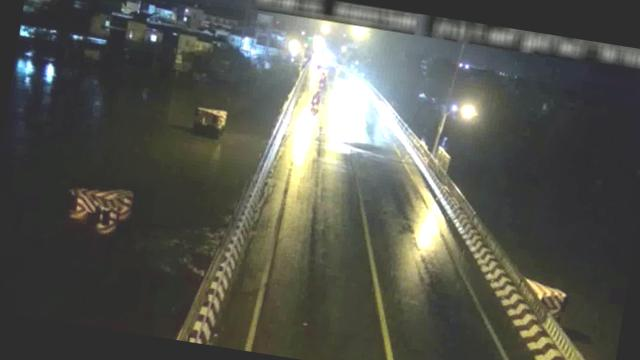Bike: (310, 88, 323, 109)
